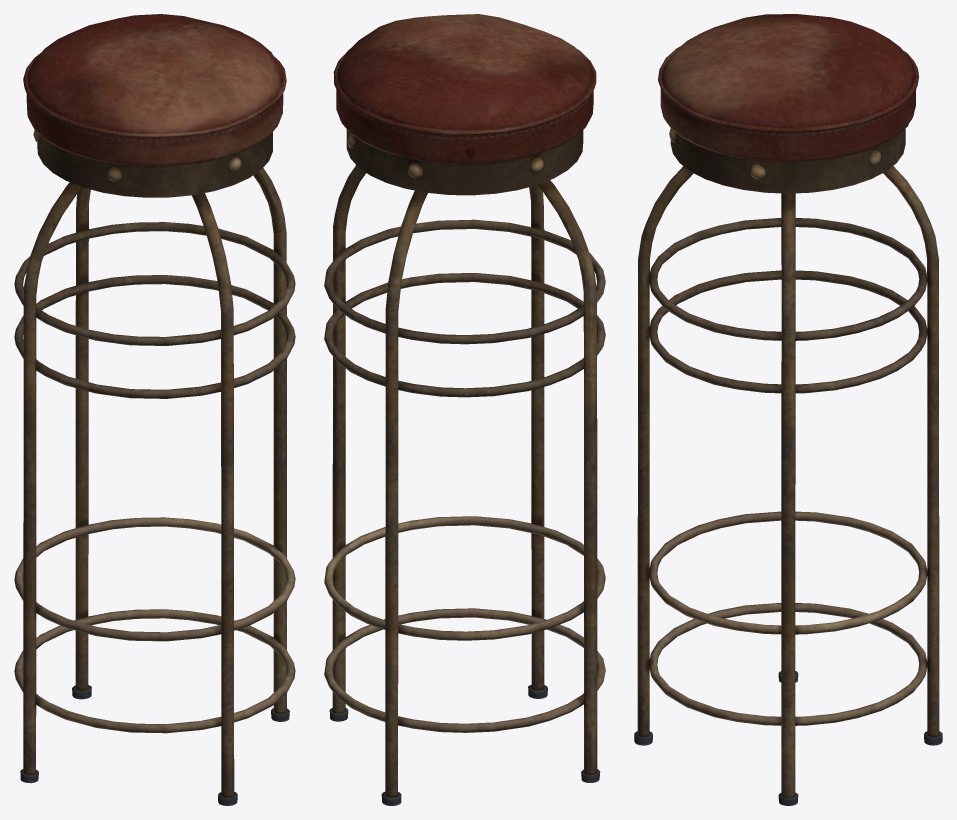
The model's file is u_ph_metal_stool_01.glb.
3 views of the same model, side by side, from view 1: azimuth 30°, elevation 25°; view 2: azimuth 150°, elevation 25°; view 3: azimuth 270°, elevation 25° (orthographic).
Parts seen in each view (by area): view 1: metal_stool_01; view 2: metal_stool_01; view 3: metal_stool_01.
Part boxes in pixels (x1,y1,x2,y2): metal_stool_01: (14, 14, 295, 805); metal_stool_01: (324, 14, 605, 805); metal_stool_01: (634, 14, 942, 805).
Size of the model in its own units: 0.352 by 0.8826 by 0.3546.
Materials: 1 (1 with a texture image).
